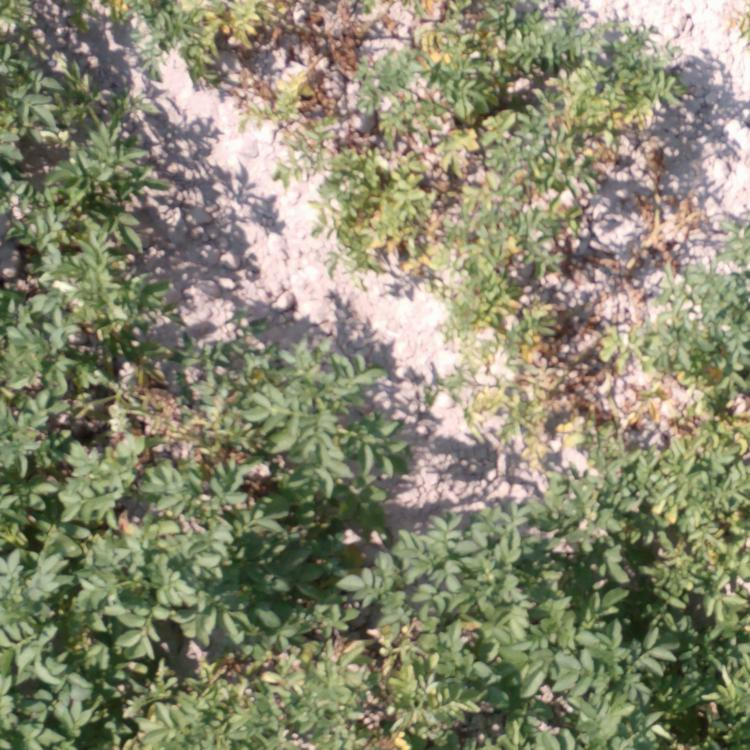healthy: (373, 480, 611, 749), (172, 506, 359, 748), (1, 127, 160, 351), (1, 537, 165, 746), (171, 347, 377, 502), (1, 358, 167, 538), (614, 530, 749, 750), (1, 1, 112, 130), (659, 210, 750, 312)
stressed: (433, 283, 622, 474), (312, 157, 578, 284), (622, 315, 750, 531), (356, 1, 657, 72), (217, 75, 478, 152), (113, 1, 354, 75), (482, 75, 703, 155)
